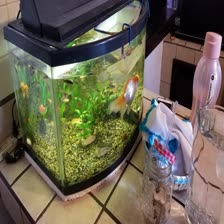Cuezo: (106, 72, 140, 117)
